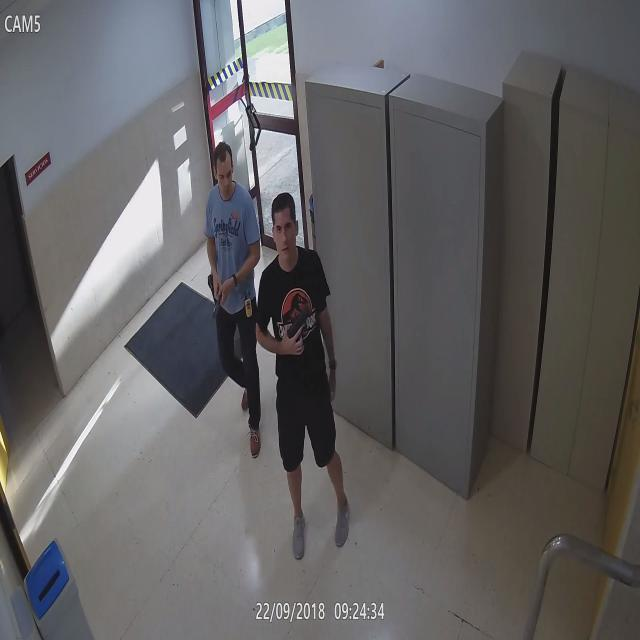gun: (280, 304, 311, 361)
